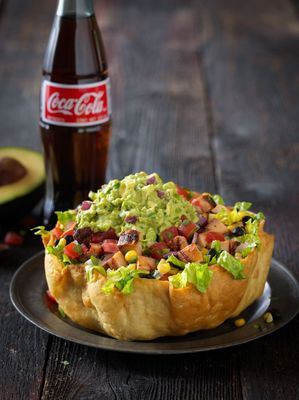curry: (0, 0, 290, 400)
sandwich: (38, 171, 277, 342)
